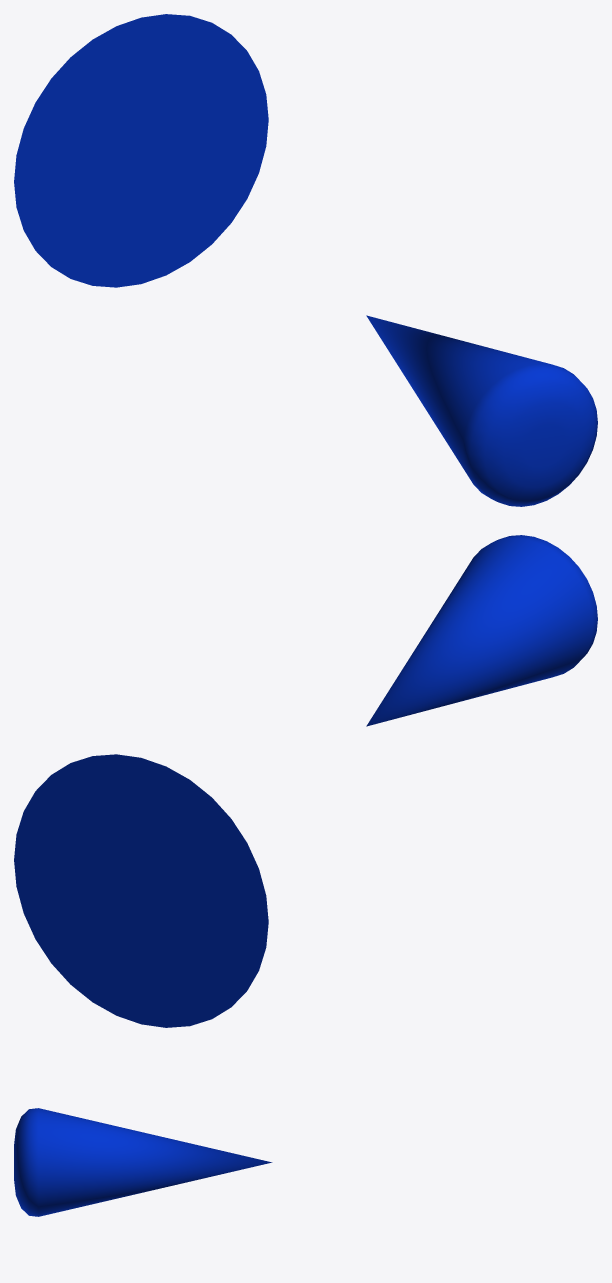
The model's file is patrolpoint.obj.
The picture shows the model from 3 angles, top to bottom: view 1: azimuth 30°, elevation 25°; view 2: azimuth 150°, elevation 25°; view 3: azimuth 270°, elevation 25°; orthographic projection. The views are drawn at different scales.
Visible parts, largest first — view 1: Cone.001; view 2: Cone.001; view 3: Cone.001.
Part boxes in pixels (left/top/right/bottom): Cone.001: left=14, top=14, right=597, bottom=506; Cone.001: left=14, top=535, right=597, bottom=1027; Cone.001: left=14, top=1108, right=272, bottom=1216.
Bounding box in the file's own units: 6.12 × 6.12 × 16.77.
